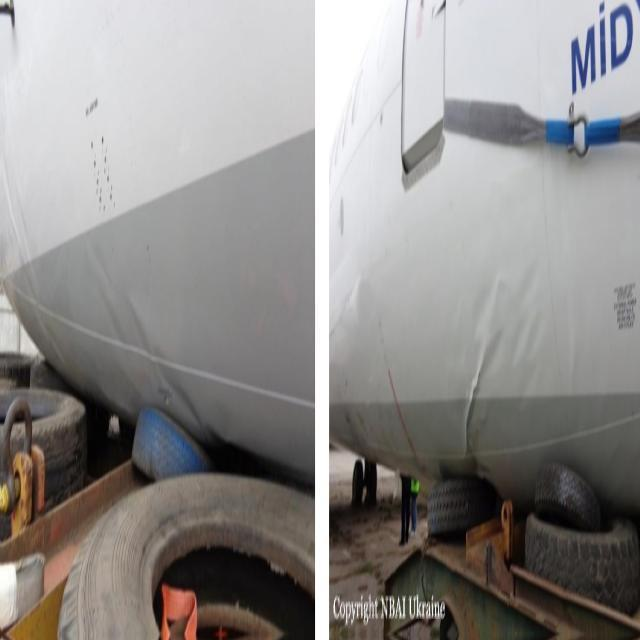dent: (84, 208, 221, 448), (462, 272, 543, 488)
